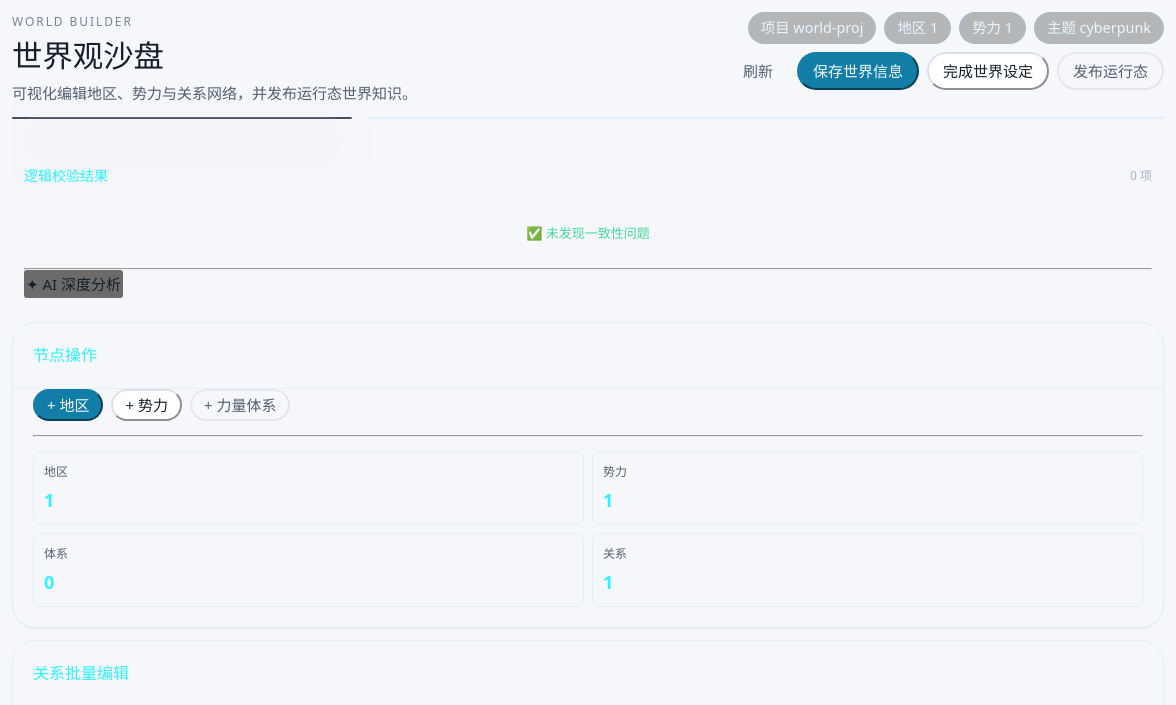
Test case: WorldBuilder page › publishes runtime world and renders diff summary
Click the button "发布运行态" at x=1110, y=71, box [1057, 52, 1164, 90]
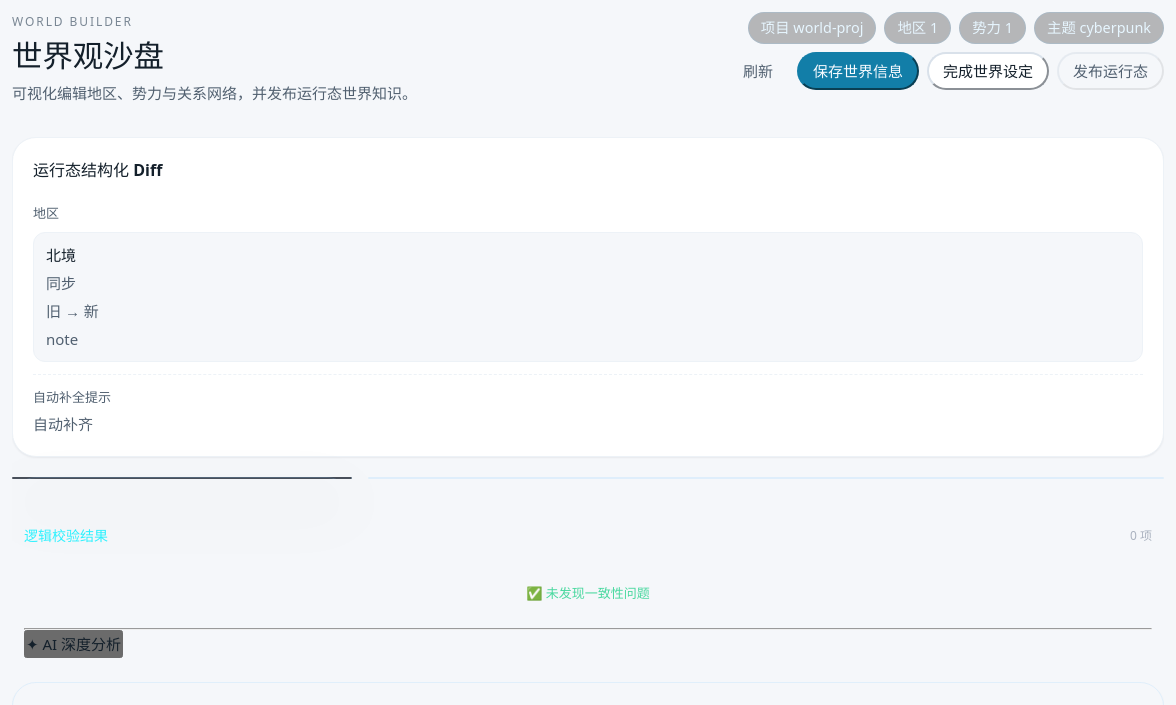
Result: the text "自动补齐" is shown at [33, 414, 93, 434]
Result: the text "北境" is shown at [46, 245, 76, 265]
